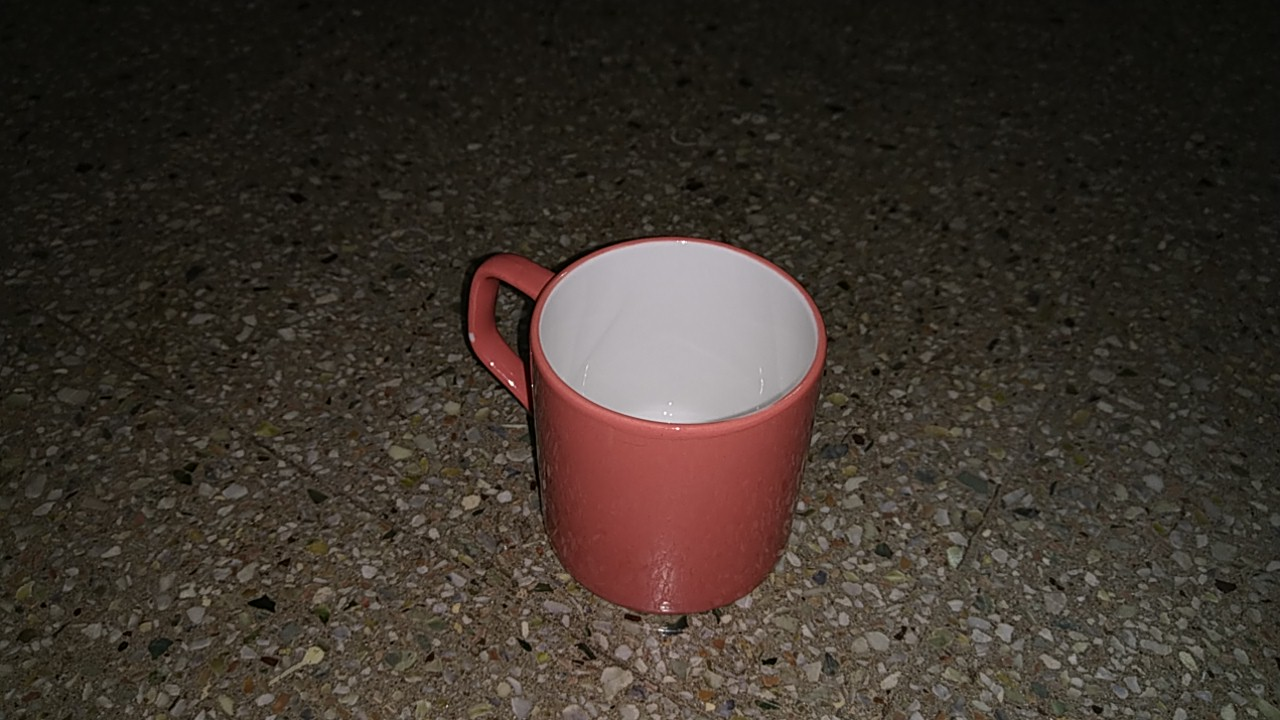cup: (443, 215, 849, 639)
